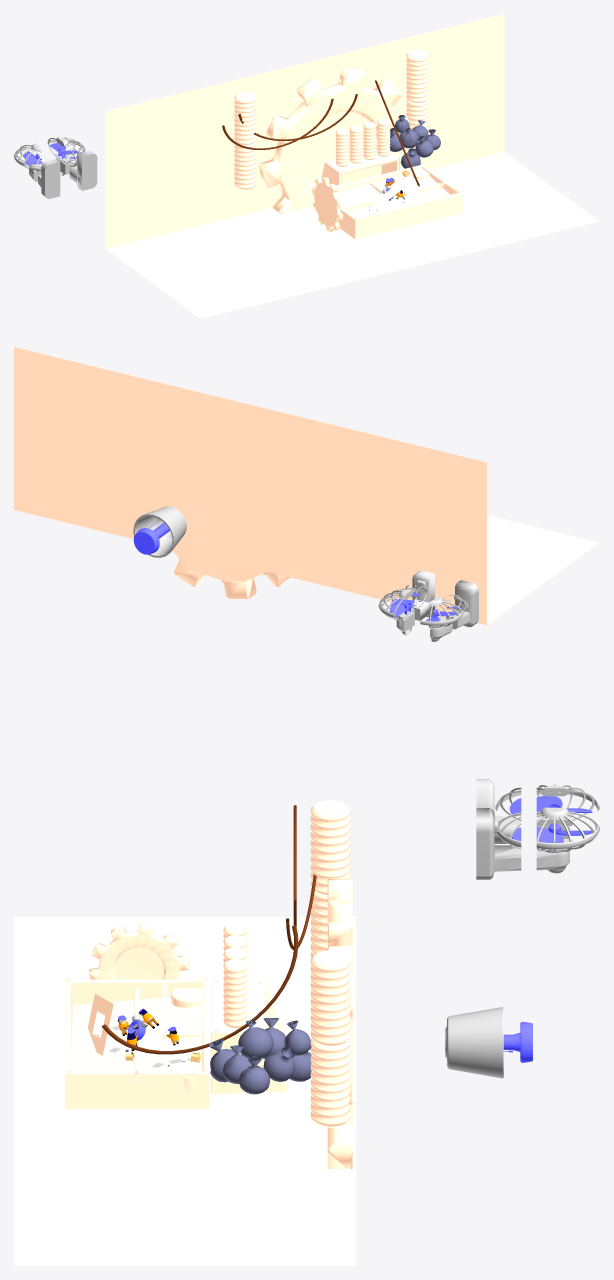
Rendered from testmenu.fbx.
The picture shows the model from 3 angles, top to bottom: view 1: azimuth 30°, elevation 25°; view 2: azimuth 150°, elevation 25°; view 3: azimuth 270°, elevation 25°; orthographic projection. The views are drawn at different scales.
Visible parts, largest first — view 1: pPlane5, pCylinder43, pCube1, pCube6, pCylinder40, pCylinder72, pCylinder71, pCylinder55, itemA_pCylinder98, itemA_pCylinder98.003, pPlane7, itemA_pCylinder98.002 (+6 smaller); view 2: pPlane5, pCylinder43, itemB_pCylinder119, itemA_pCylinder98.003, itemA_pCylinder98.002, itemA_pCylinder98, itemA_pCylinder98.001; view 3: pPlane5, pCube1, itemB_pCylinder119, pCylinder40, pCylinder72, pCylinder43, pCylinder71, pCylinder54, pCube6, itemA_pCylinder98, itemA_pCylinder98.002, pCylinder53 (+8 smaller).
Part boxes in pixels (left/top/right/bottom): pPlane5: left=105, top=14, right=599, bottom=318; pCylinder43: left=259, top=68, right=409, bottom=213; pCube1: left=316, top=164, right=463, bottom=239; pCube6: left=321, top=149, right=399, bottom=185; pCylinder40: left=311, top=177, right=343, bottom=231; pCylinder72: left=406, top=50, right=428, bottom=102; pCylinder71: left=234, top=92, right=256, bottom=144; pCylinder55: left=234, top=141, right=256, bottom=189; itemA_pCylinder98: left=69, top=148, right=97, bottom=190; itemA_pCylinder98.003: left=29, top=156, right=60, bottom=198; pPlane7: left=374, top=173, right=422, bottom=211; itemA_pCylinder98.002: left=47, top=137, right=85, bottom=175; pPlane5: left=14, top=347, right=599, bottom=625; pCylinder43: left=172, top=549, right=289, bottom=598; itemB_pCylinder119: left=133, top=506, right=186, bottom=557; itemA_pCylinder98.003: left=446, top=580, right=478, bottom=629; itemA_pCylinder98.002: left=378, top=589, right=414, bottom=635; itemA_pCylinder98: left=396, top=570, right=434, bottom=620; itemA_pCylinder98.001: left=420, top=596, right=463, bottom=641; pPlane5: left=14, top=916, right=356, bottom=1265; pCube1: left=65, top=979, right=208, bottom=1108; itemB_pCylinder119: left=445, top=1007, right=532, bottom=1078; pCylinder40: left=89, top=922, right=188, bottom=979; pCylinder72: left=310, top=950, right=350, bottom=1045; pCylinder43: left=327, top=879, right=352, bottom=1168; pCylinder71: left=310, top=800, right=350, bottom=894; pCylinder54: left=310, top=1039, right=350, bottom=1126; pCube6: left=211, top=979, right=286, bottom=1094; itemA_pCylinder98: left=476, top=808, right=521, bottom=879; itemA_pCylinder98.002: left=536, top=807, right=599, bottom=873; pCylinder53: left=223, top=959, right=246, bottom=1027.
Bounding box in the file's own units: 2253 × 847 × 1478.
